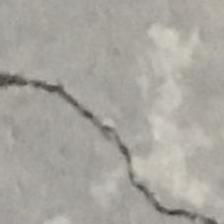Crack: (0, 72, 218, 224)
